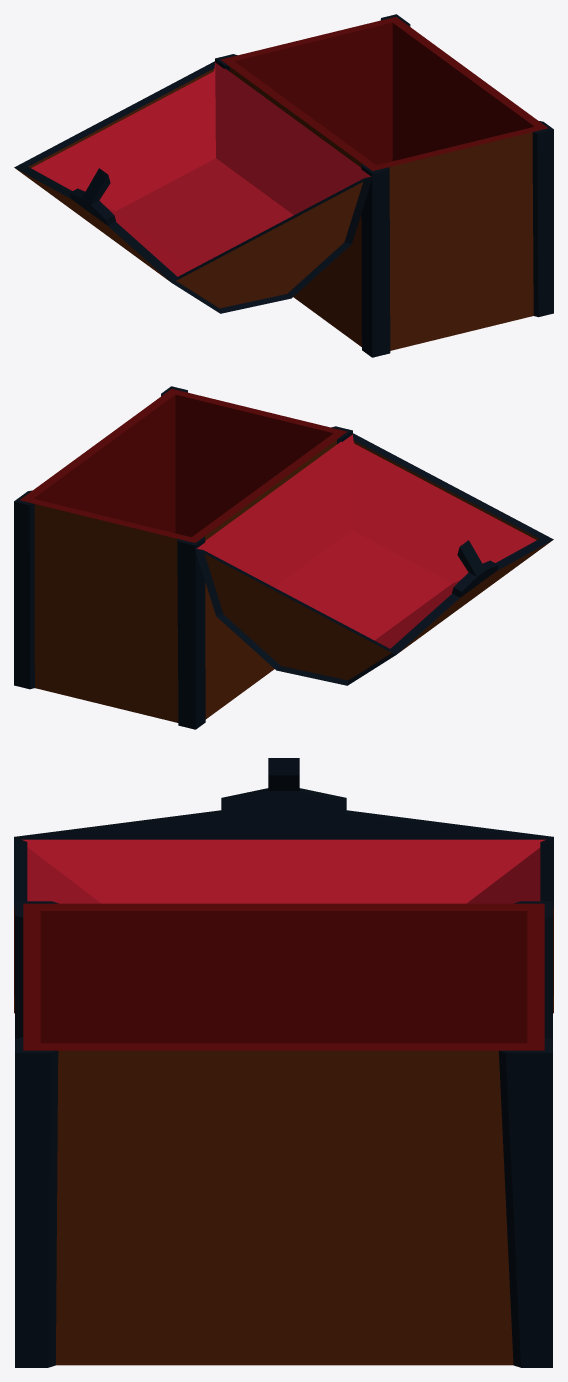
Rendered from treasure0.glb.
The picture shows the model from 3 angles, top to bottom: view 1: azimuth 30°, elevation 25°; view 2: azimuth 150°, elevation 25°; view 3: azimuth 270°, elevation 25°; orthographic projection. The views are drawn at different scales.
Parts seen in each view (by area): view 1: Cube; view 2: Cube; view 3: Cube.
Part boxes in pixels (x1,y1,x2,y2): Cube: [14, 14, 553, 357]; Cube: [14, 386, 553, 729]; Cube: [14, 758, 553, 1367].
Size of the model in its own units: 4.42 by 2 by 3.11.
Materials: 1 (1 with a texture image).
